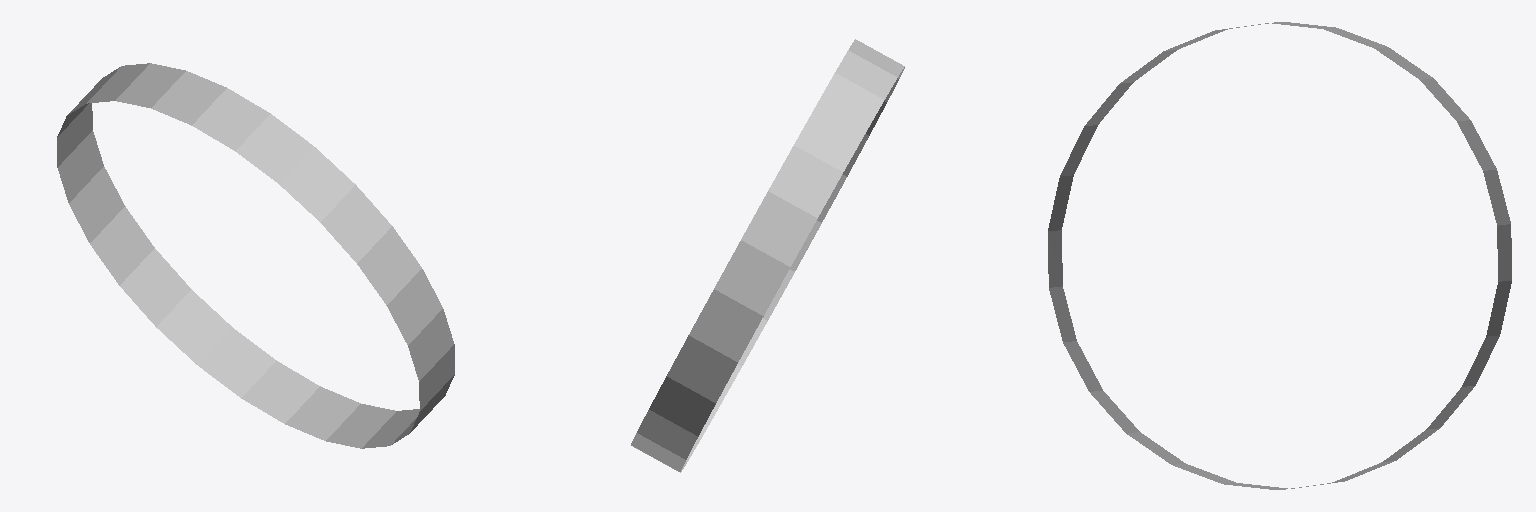
The model's file is IonPlasmaRingOut.obj.
3 views of the same model, side by side, from view 1: azimuth 30°, elevation 25°; view 2: azimuth 150°, elevation 25°; view 3: azimuth 270°, elevation 25° (orthographic).
Visible parts, largest first — view 1: Sphere_3; view 2: Sphere_3; view 3: Sphere_3.
Boxes of the visible parts, <box> form: Sphere_3: <box>57,63,454,448</box>; Sphere_3: <box>631,39,904,472</box>; Sphere_3: <box>1048,22,1511,489</box>.
Size of the model in its own units: 0.021 by 0.033 by 0.0345.